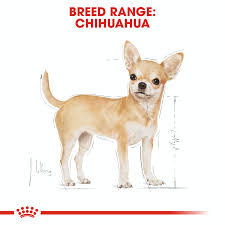Bulldog: (39, 43, 186, 195)
